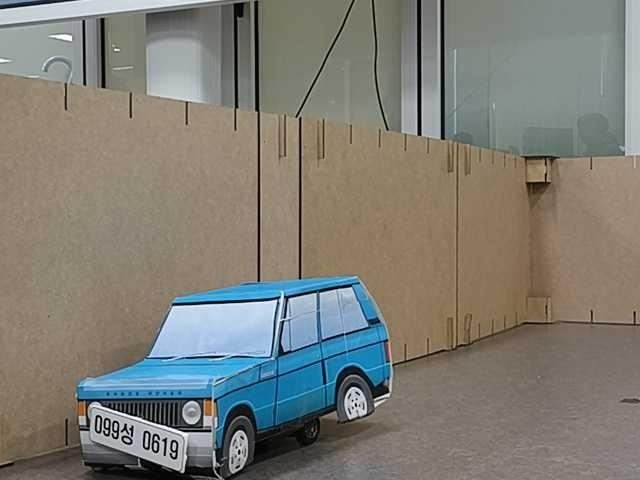car: (81, 277, 393, 478)
id: (86, 397, 188, 474)
